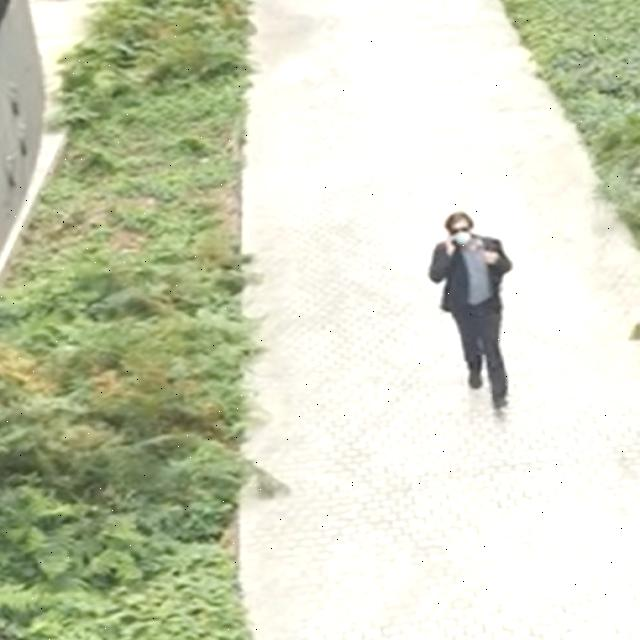standing: (429, 211, 512, 411)
